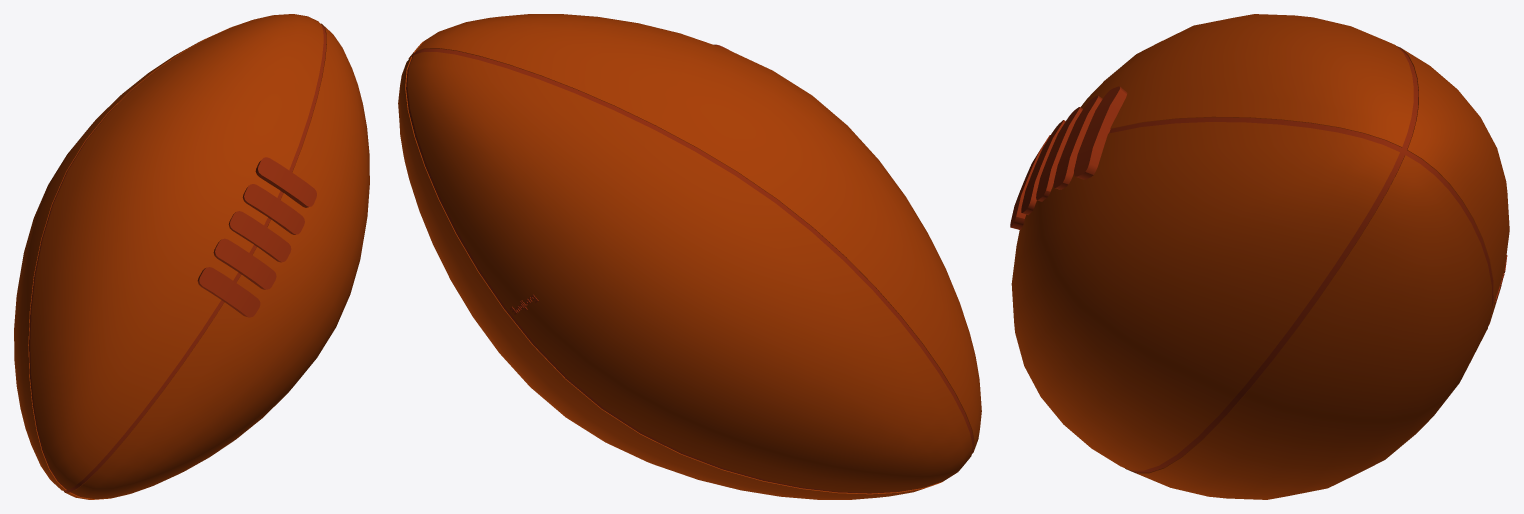
Rendered from rugby_football.glb.
3 views of the same model, side by side, from view 1: azimuth 30°, elevation 25°; view 2: azimuth 150°, elevation 25°; view 3: azimuth 270°, elevation 25° (orthographic). The views are drawn at different scales.
Parts seen in each view (by area): view 1: Cube.813; view 2: Cube.813; view 3: Cube.813.
Part boxes in pixels (x1=…): Cube.813: x1=14, y1=14, x2=369, y2=499; Cube.813: x1=398, y1=14, x2=981, y2=499; Cube.813: x1=1010, y1=14, x2=1509, y2=499.
Size of the model in its own units: 2.3 by 2.15 by 1.82.
Materials: 1 (1 with a texture image).
